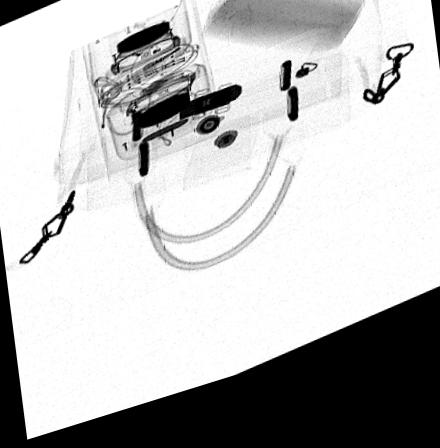Gun: (261, 0, 369, 19)
